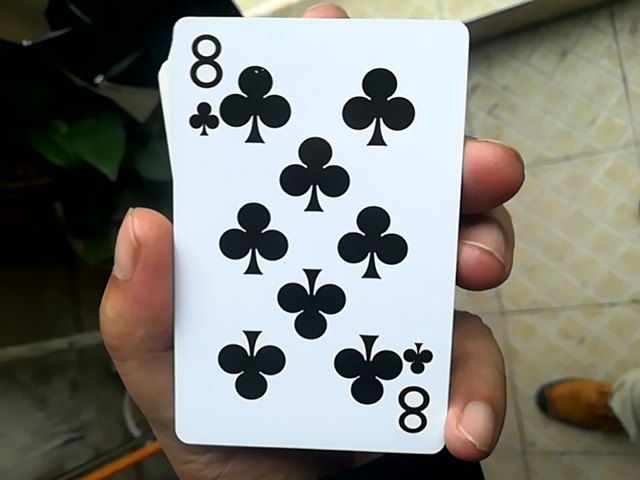mh 8: (148, 10, 459, 457)
